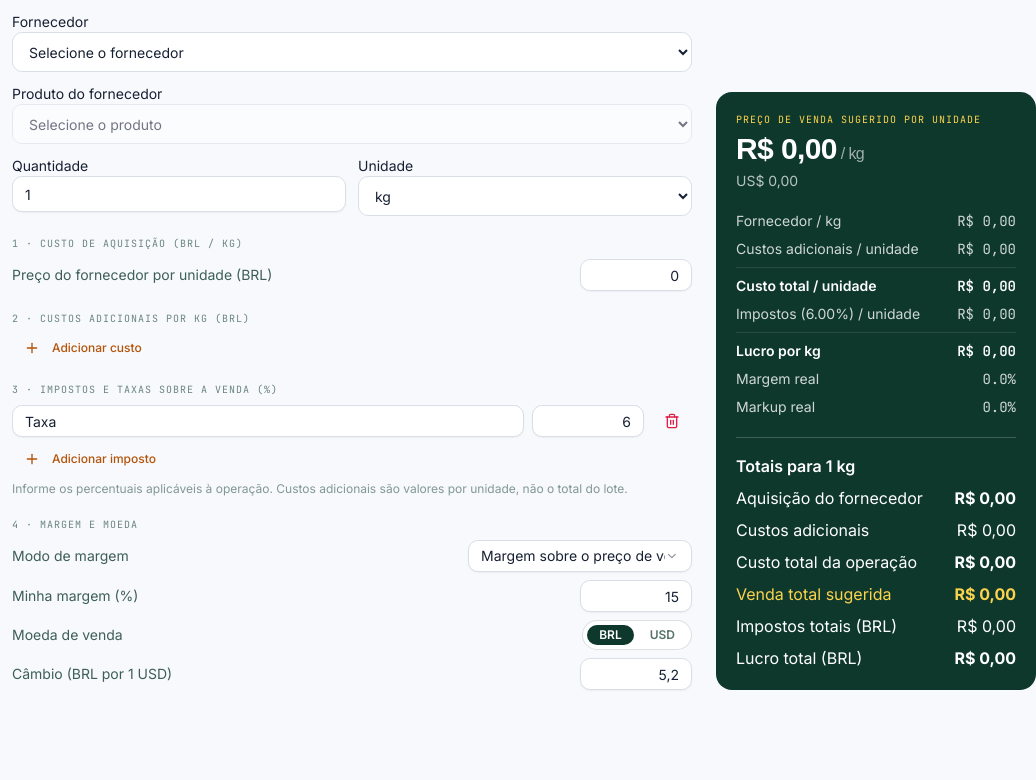
Test: supplier selection limits products, clears the old price and multiplies comma-decimal prices
Expected: the dropdown labelled "Produto do fornecedor" is disabled, [12,104,692,144]
Step 1. Select "Bona Fruit" in the dropdown labelled "Fornecedor" → coordinates (352, 52), box [12,32,692,72]
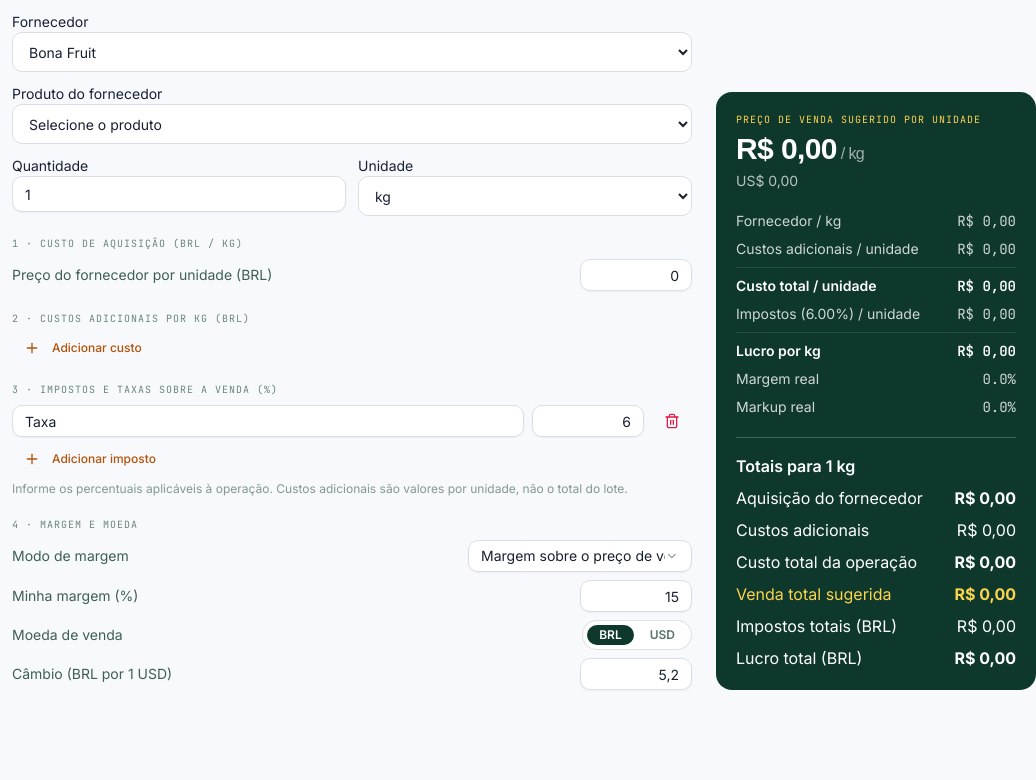
Expected: the option "Manga" is not shown
Step 2. Select "Açaí liofilizado" in the dropdown labelled "Produto do fornecedor" → coordinates (352, 124), box [12,104,692,144]
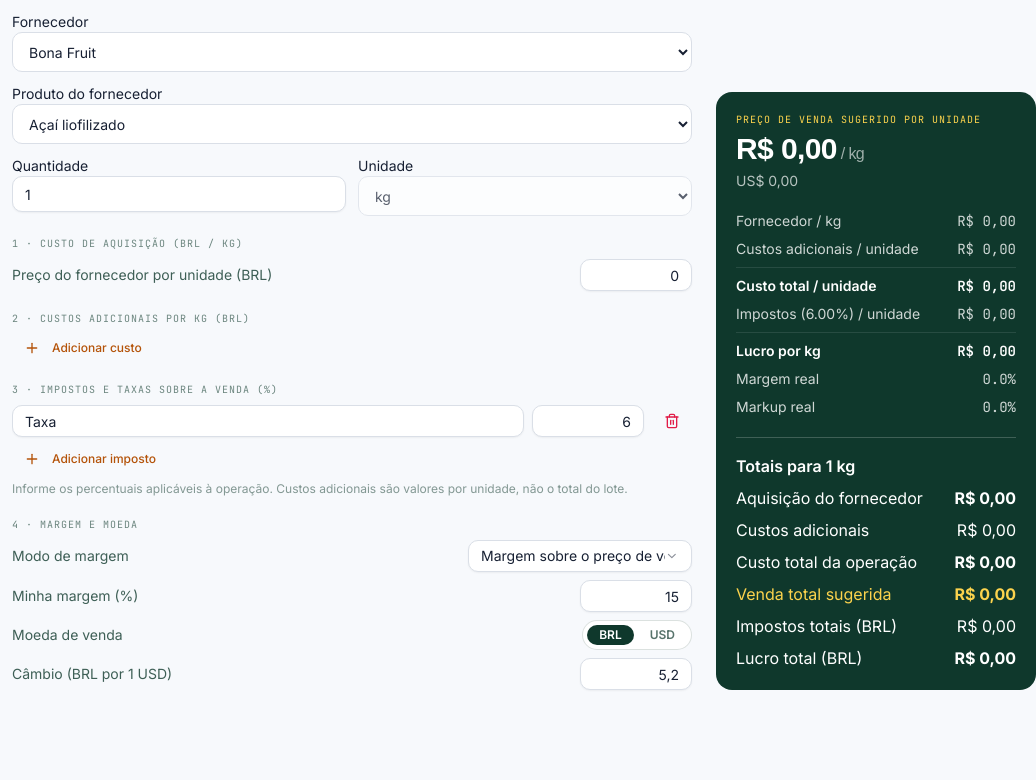
Step 3. Replace the text in the field labelled "Quantidade" with "1000" → coordinates (179, 194), box [12,176,346,212]
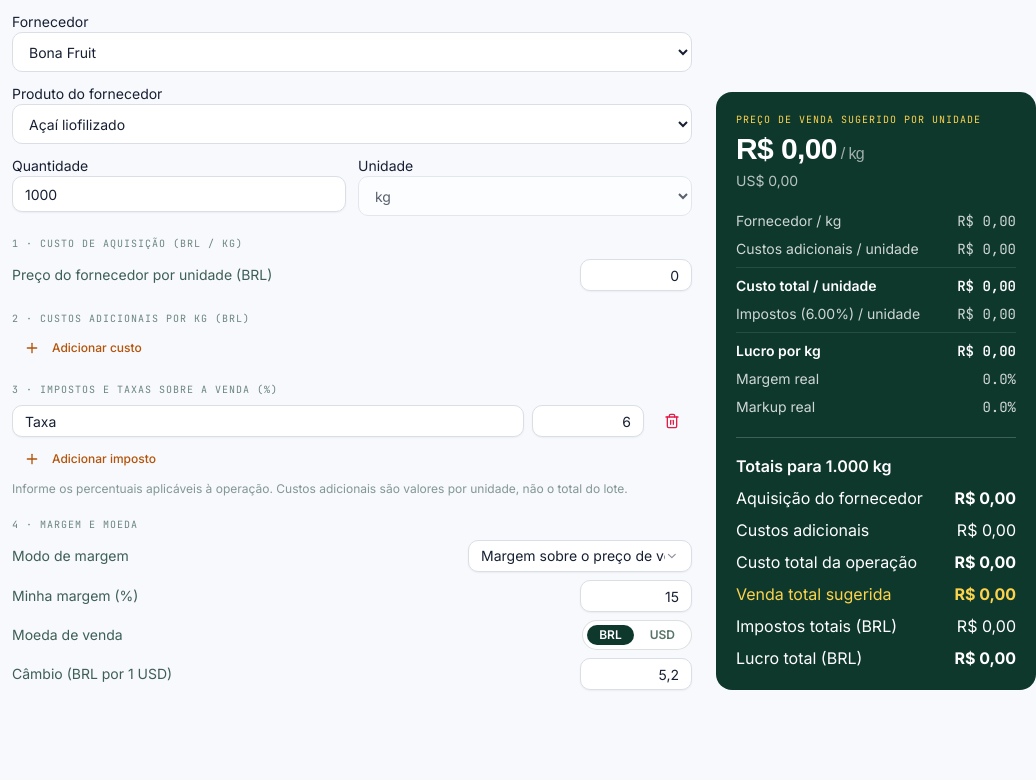
Step 4. Replace the text in the field named "Preço do fornecedor por unidade" with "17,50" → coordinates (636, 275), box [580,259,692,291]
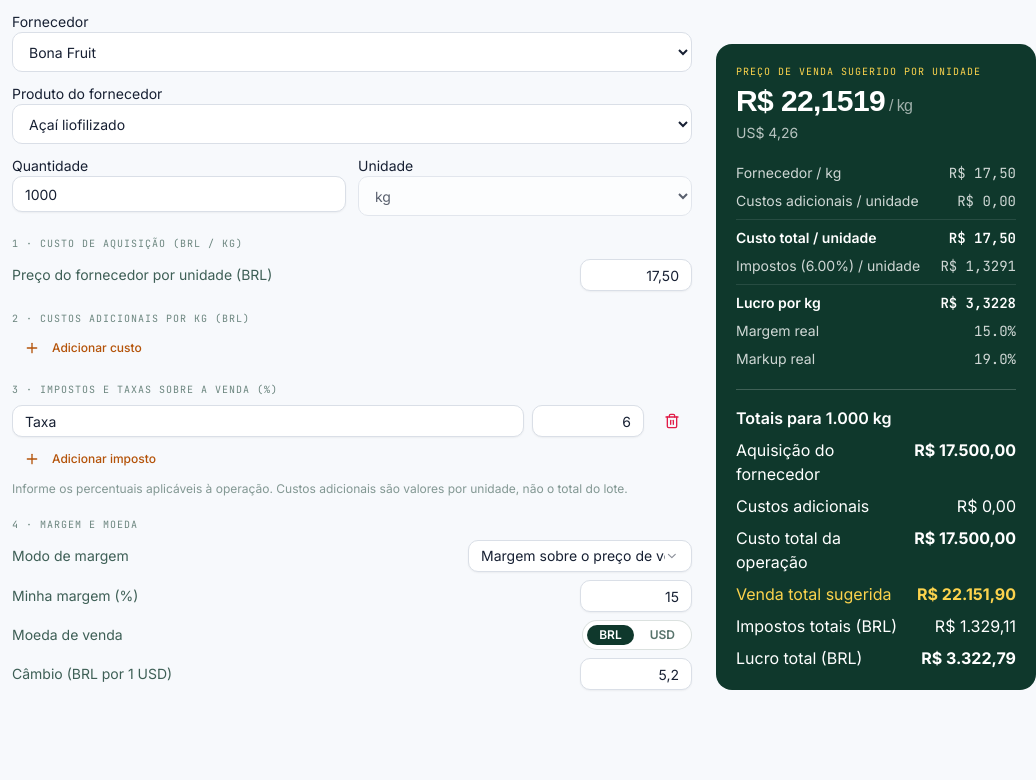
Expected: the dropdown labelled "Unidade" is disabled, [358,176,692,216]
Expected: the text with test id "price-supplier-total" shows "17.500,00", [914,440,1016,460]
Expected: the text with test id "price-sale-total" shows "22.151,90", [917,584,1016,604]
Step 5. Select "Outro fornecedor" in the dropdown labelled "Fornecedor" → coordinates (352, 52), box [12,32,692,72]
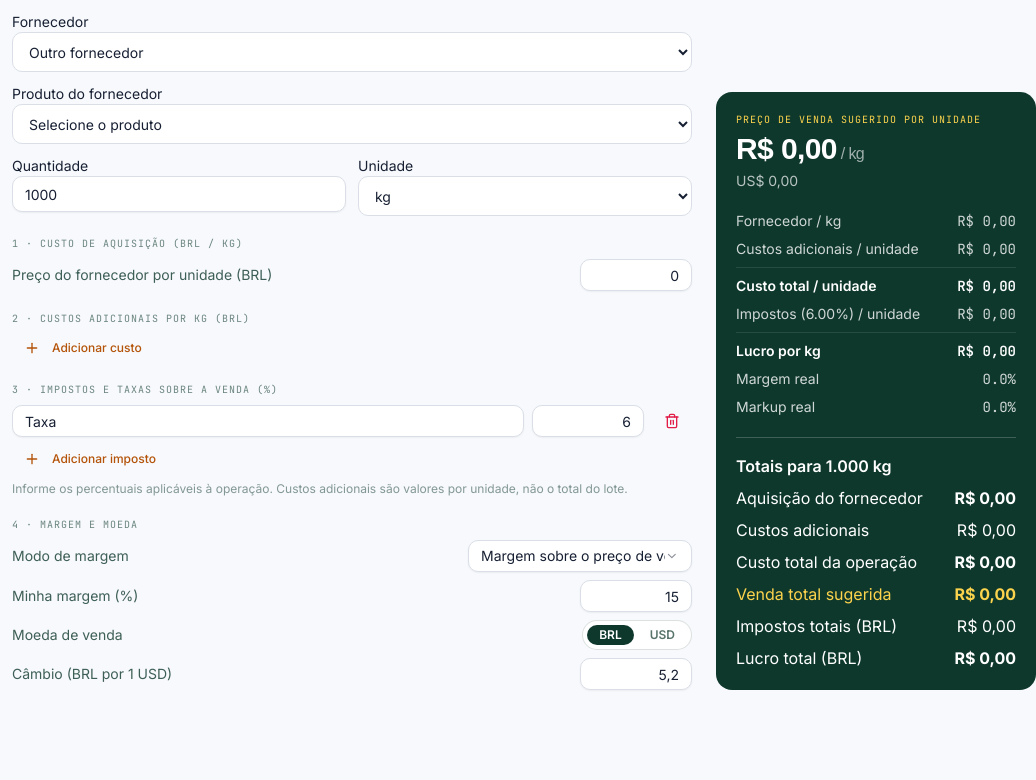
Expected: the option "Açaí liofilizado" is not shown
Expected: the field named "Preço do fornecedor por unidade" holds "0", [580,259,692,291]
Step 6. Select "Manga" in the dropdown labelled "Produto do fornecedor" → coordinates (352, 124), box [12,104,692,144]
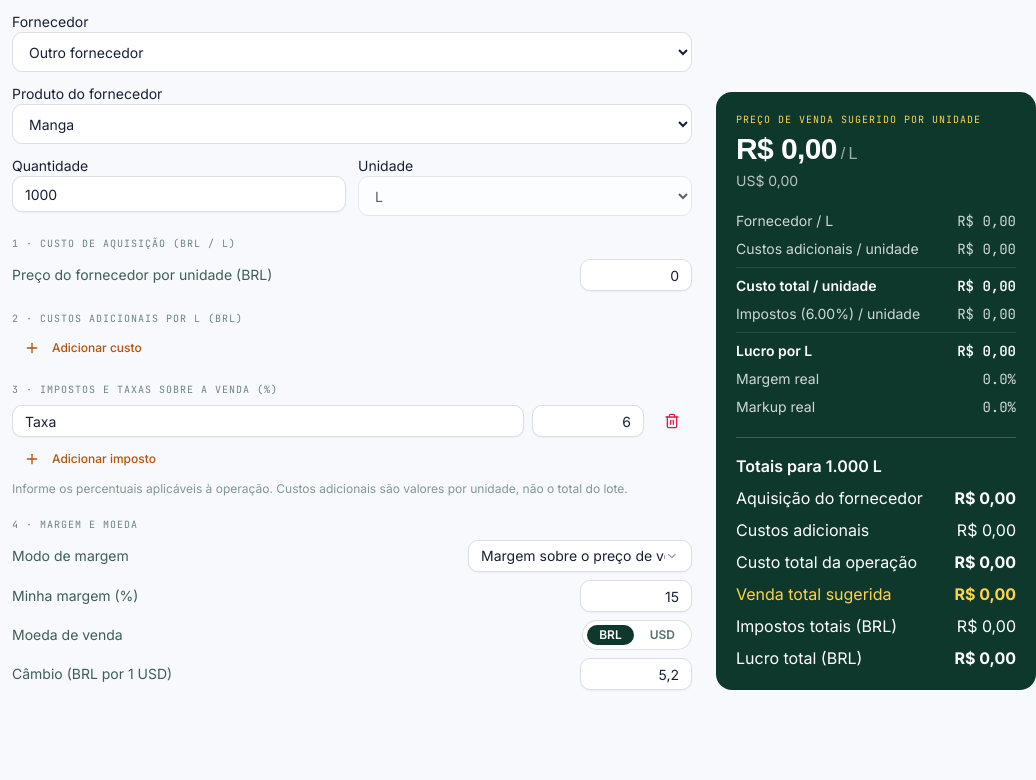
Expected: the dropdown labelled "Unidade" shows "L", [358,176,692,216]
